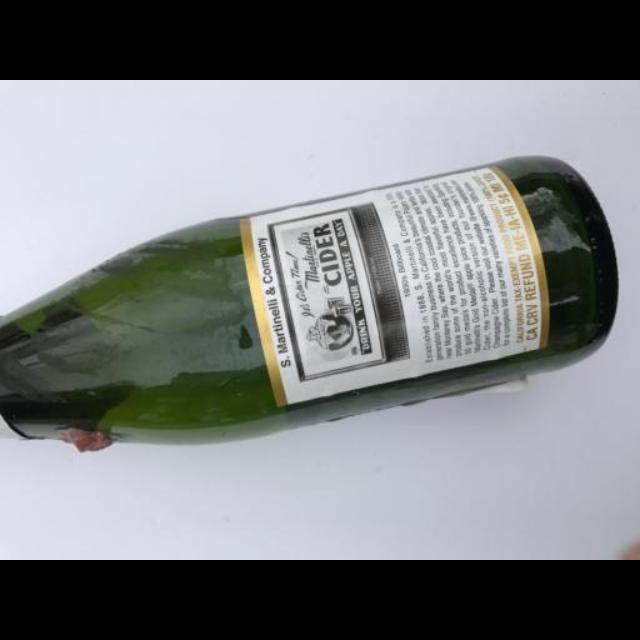garrafa de vidro: (1, 153, 620, 451)
